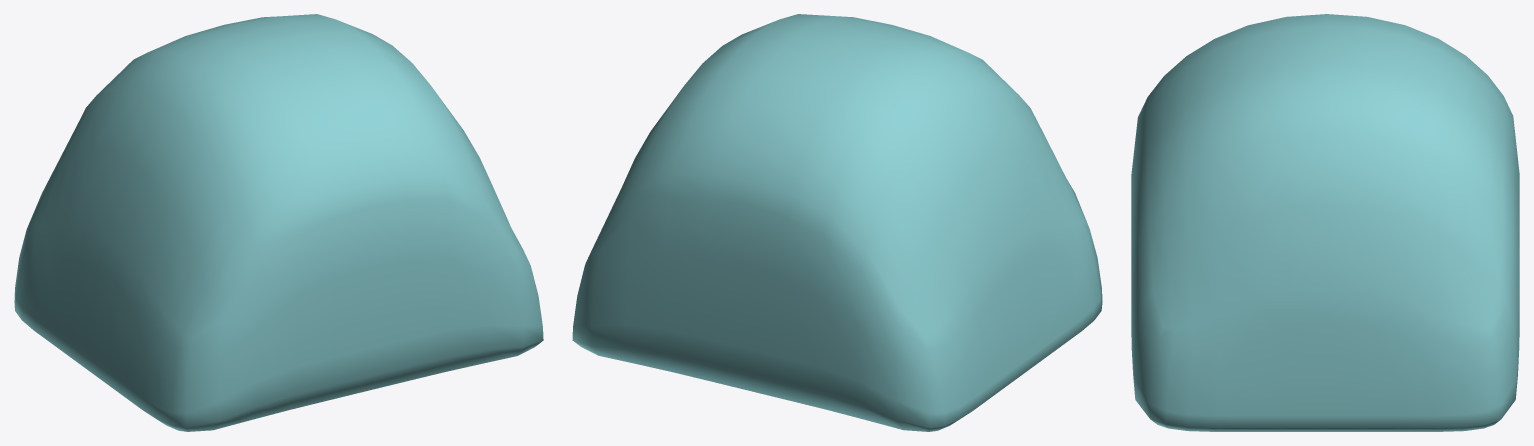
The model's file is rock_neige_02.fbx.
3 renders of one model, left to right at view 1: azimuth 30°, elevation 25°; view 2: azimuth 150°, elevation 25°; view 3: azimuth 270°, elevation 25°, orthographic. The views are drawn at different scales.
Visible parts, largest first — view 1: Box004; view 2: Box004; view 3: Box004.
Boxes of the visible parts, box(x1,y1,x2,y2) form: Box004: box(14, 14, 543, 431); Box004: box(572, 14, 1102, 431); Box004: box(1131, 14, 1519, 431).
Bounding box in the file's own units: 510 × 382 × 441.
